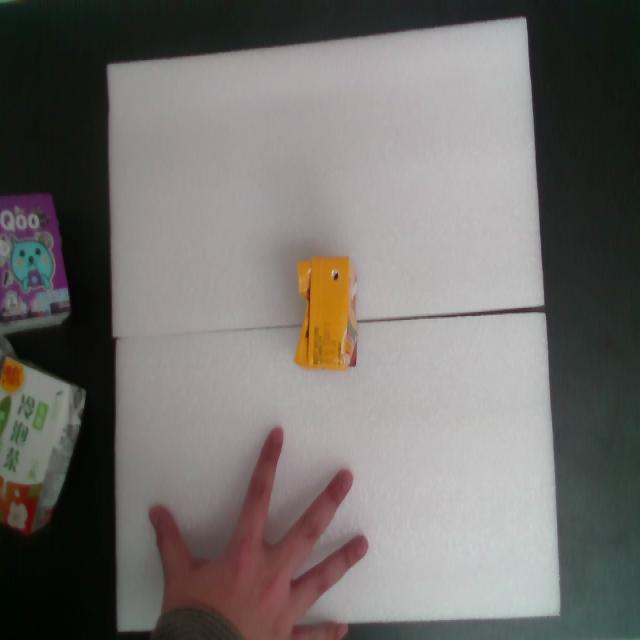juicebox: (280, 235, 372, 390)
